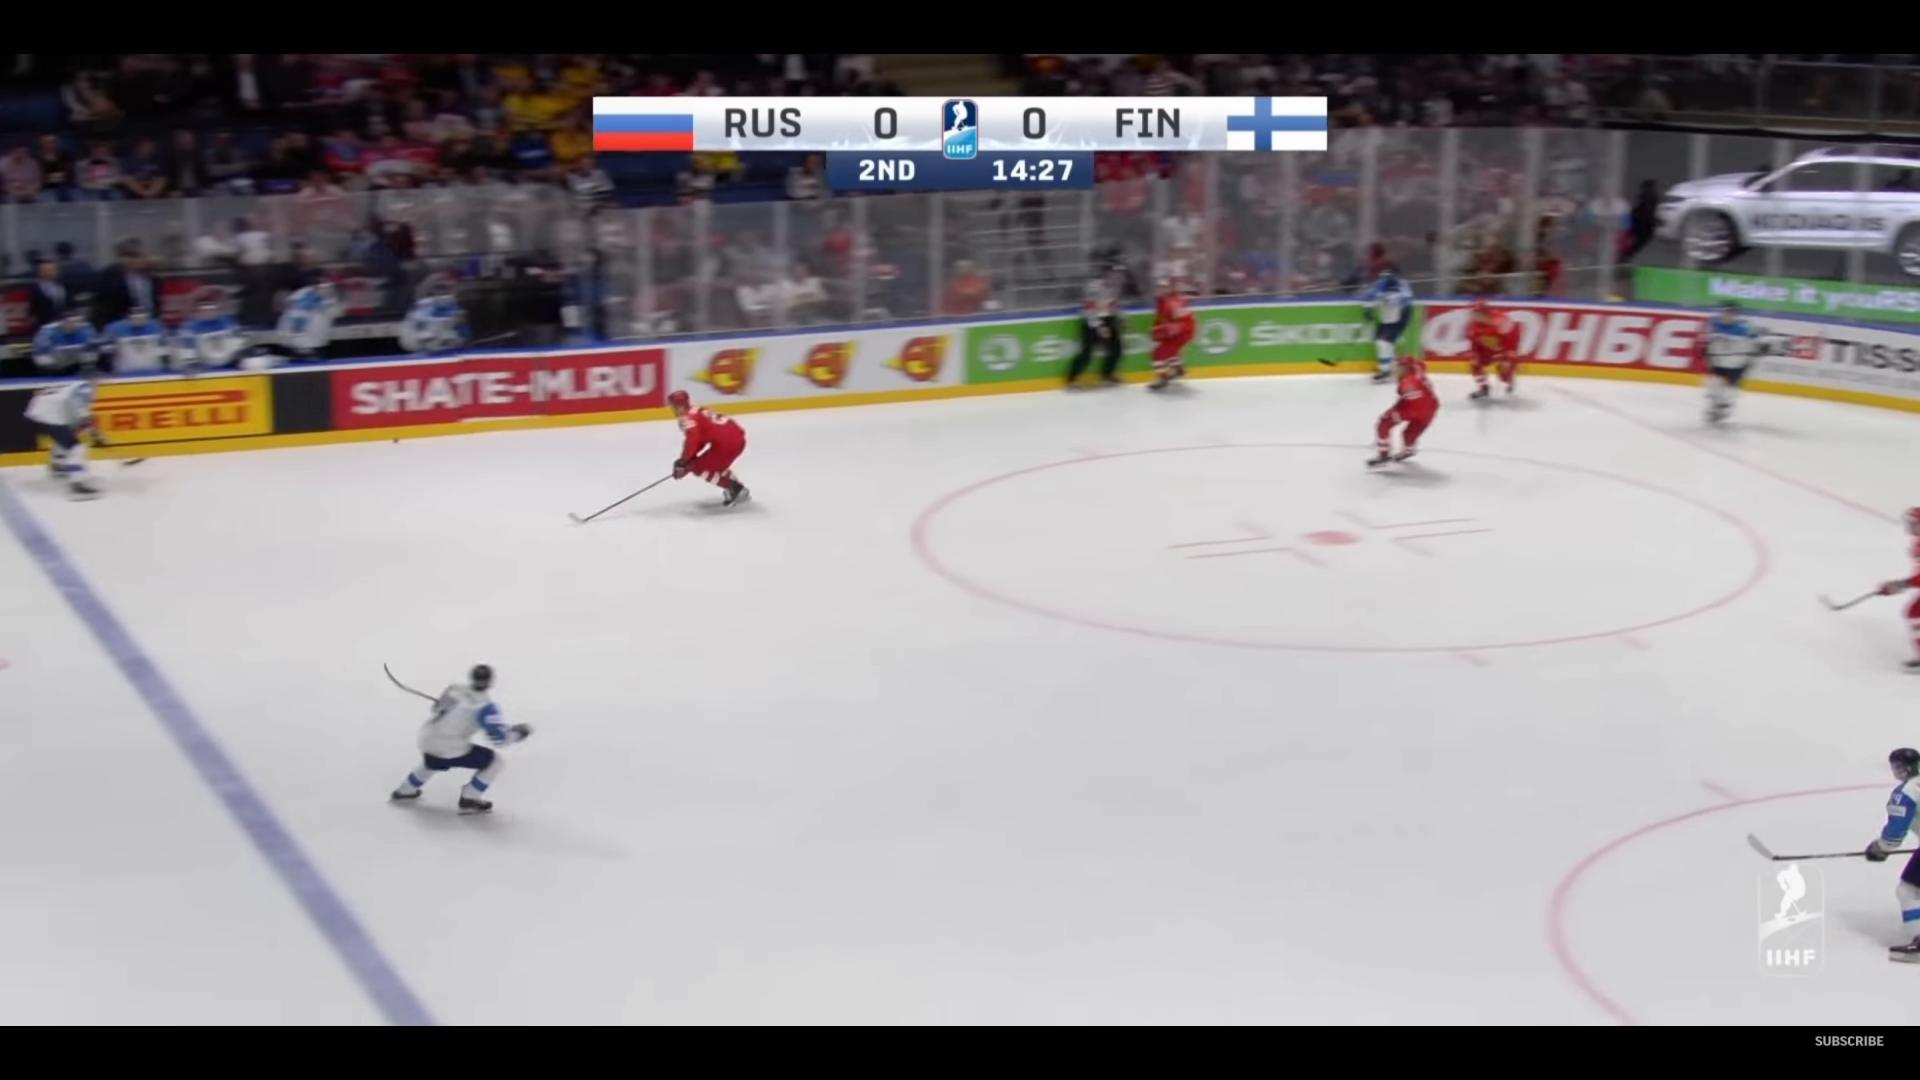puck: (392, 438, 399, 443)
